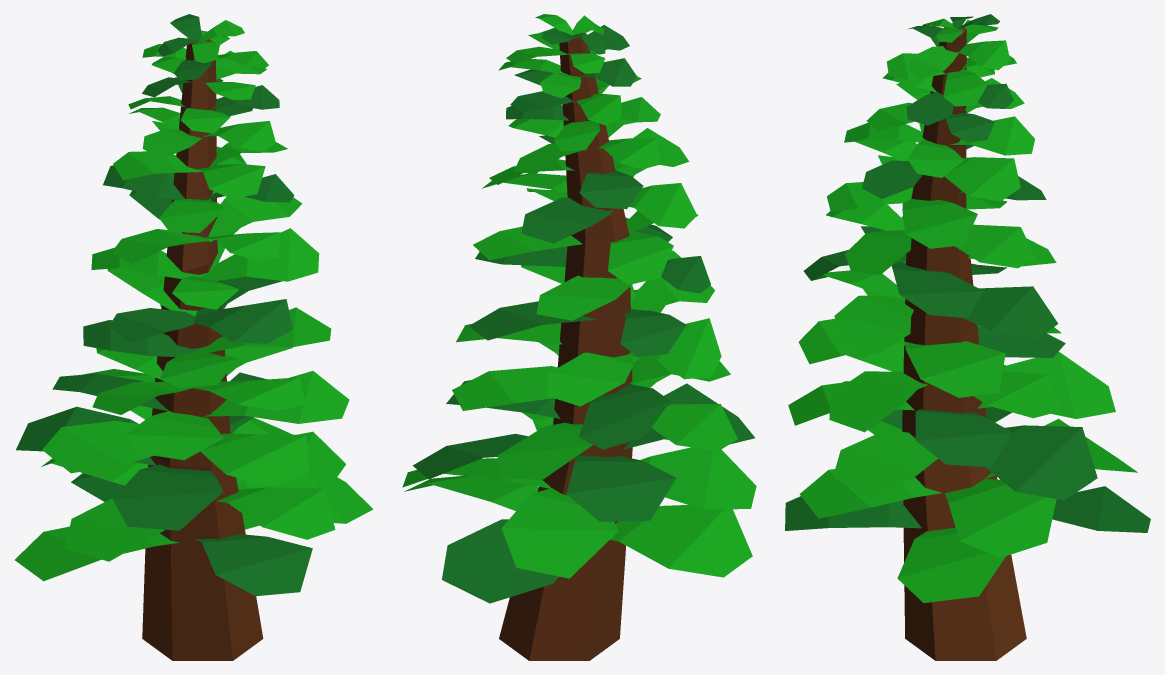
Rendered from Tree 4.2.fbx.
3 views of the same model, side by side, from view 1: azimuth 30°, elevation 25°; view 2: azimuth 150°, elevation 25°; view 3: azimuth 270°, elevation 25° (orthographic).
Visible parts, largest first — view 1: Baum; view 2: Baum; view 3: Baum.
Part boxes in pixels (left/top/right/bottom): Baum: left=15, top=14, right=373, bottom=660; Baum: left=402, top=14, right=756, bottom=660; Baum: left=785, top=14, right=1150, bottom=660.
Size of the model in its own units: 163 by 293 by 157.
